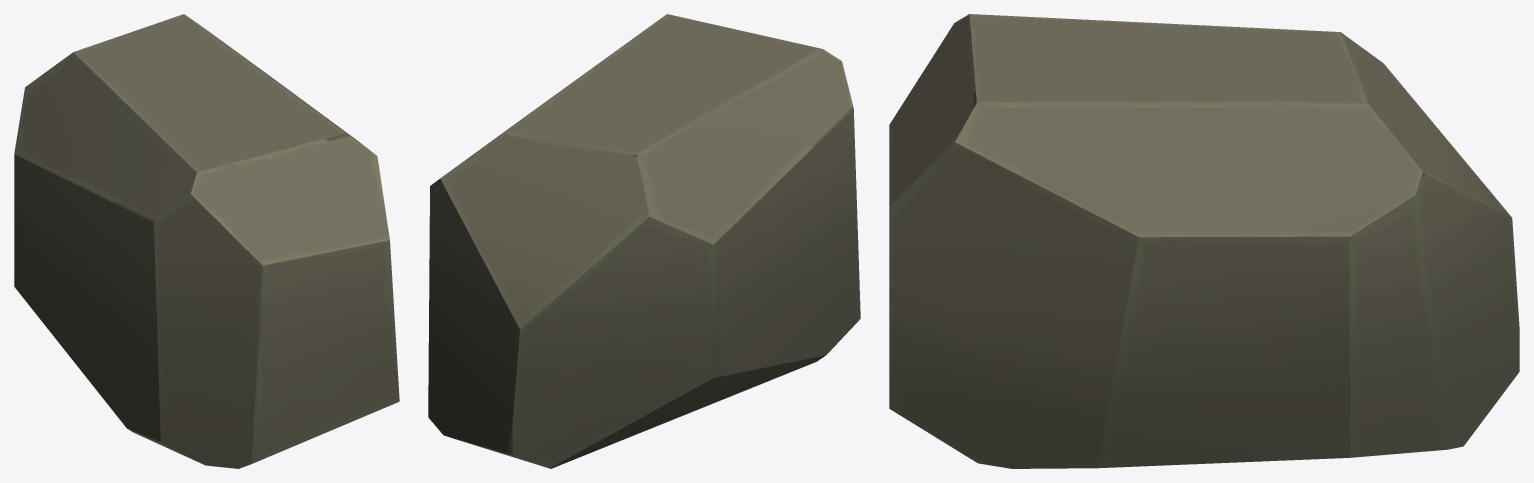
Rendered from Rock6.fbx.
3 views of the same model, side by side, from view 1: azimuth 30°, elevation 25°; view 2: azimuth 150°, elevation 25°; view 3: azimuth 270°, elevation 25° (orthographic). The views are drawn at different scales.
Parts seen in each view (by area): view 1: Cube.005; view 2: Cube.005; view 3: Cube.005.
Boxes of the visible parts, x1,y1,x2,y2 form: Cube.005: (14, 14, 399, 468); Cube.005: (428, 14, 860, 468); Cube.005: (889, 14, 1519, 468).
Size of the model in its own units: 200 by 200 by 342.
Materials: 1 (1 with a texture image).
